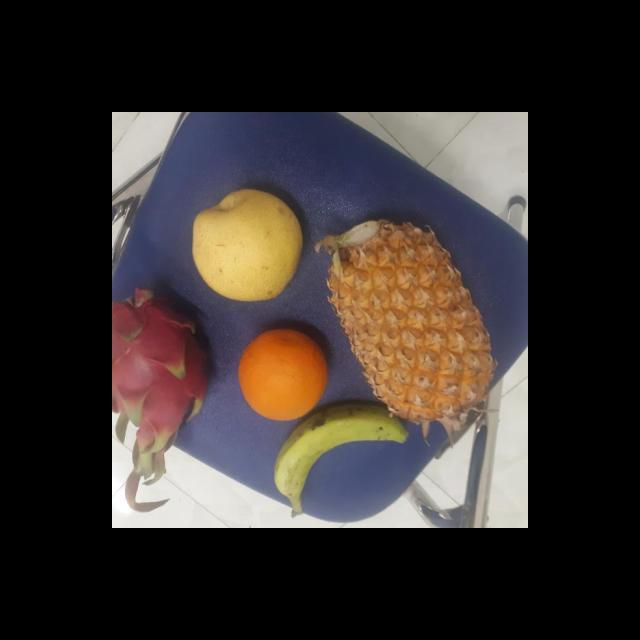banana: (275, 406, 413, 512)
orange: (234, 326, 334, 420)
pear: (187, 184, 309, 300)
pineapple: (322, 222, 499, 418)
pitaya: (112, 280, 213, 443)
